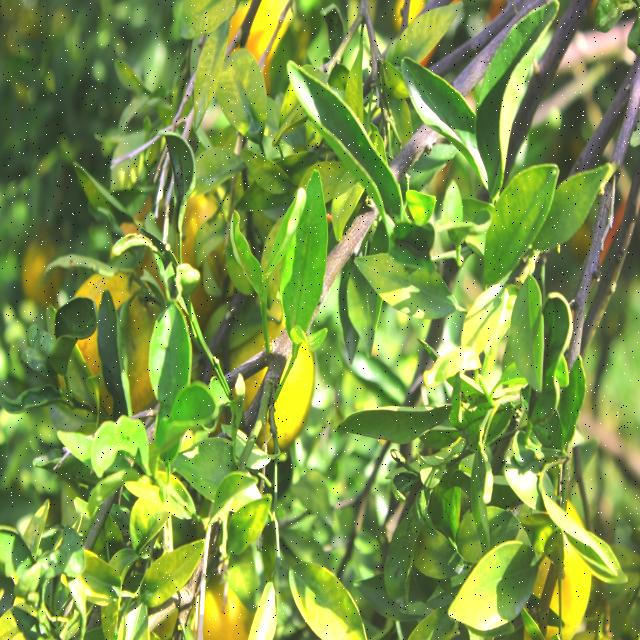greening: (481, 161, 557, 277), (283, 168, 327, 331), (453, 542, 538, 626), (371, 248, 453, 321), (292, 559, 360, 640), (220, 43, 270, 134), (145, 538, 207, 602), (556, 168, 606, 231), (232, 490, 270, 550)
